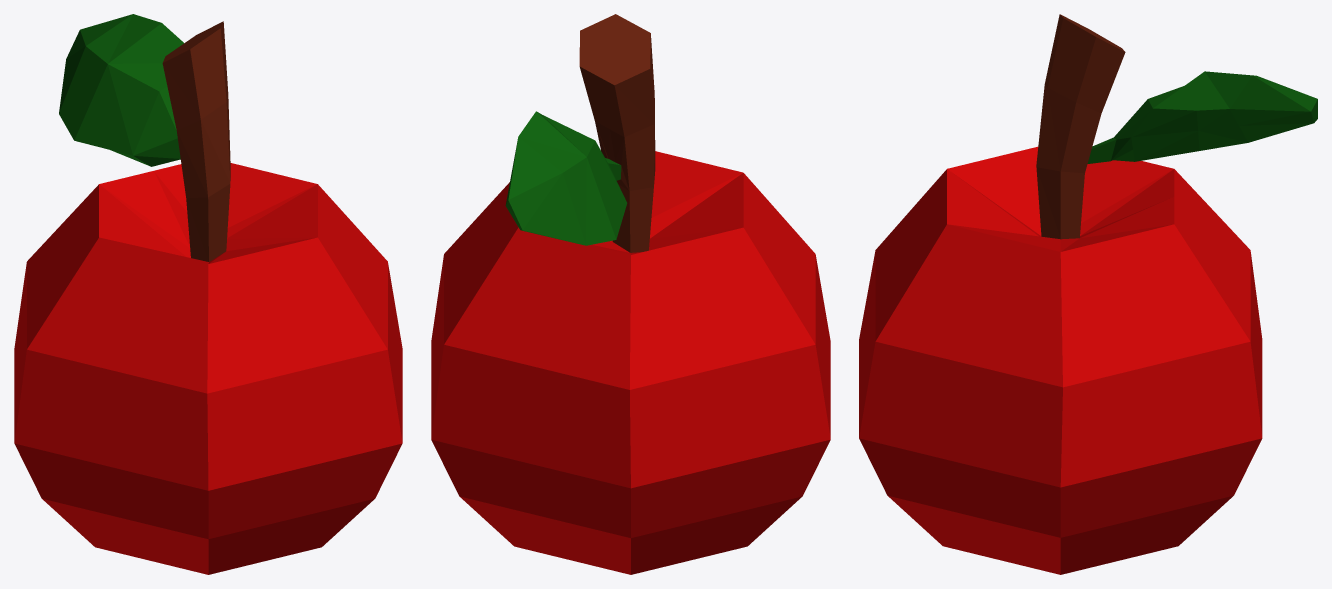
Rendered from mhlo.fbx.
The picture shows the model from 3 angles, left to right: view 1: azimuth 30°, elevation 25°; view 2: azimuth 150°, elevation 25°; view 3: azimuth 270°, elevation 25°; orthographic projection. The views are drawn at different scales.
Visible parts, largest first — view 1: apple; view 2: apple; view 3: apple.
Part boxes in pixels (<box>): apple: <box>14,14,402,574</box>; apple: <box>431,14,830,574</box>; apple: <box>859,14,1317,574</box>.
Bounding box in the file's own units: 18.07 × 21.67 × 17.8.
